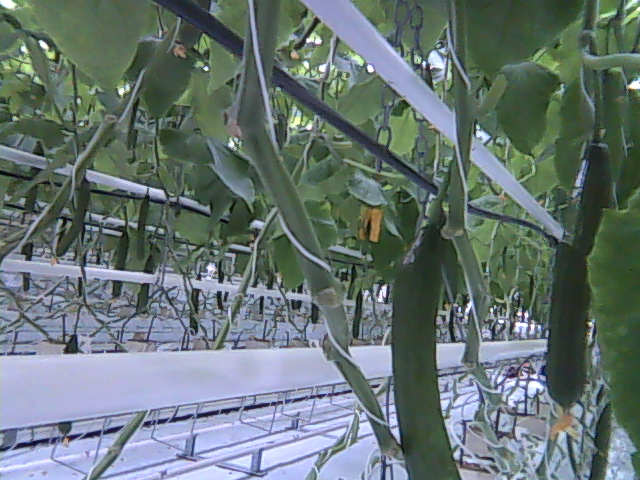concombre: (542, 126, 617, 438), (388, 221, 465, 480)
